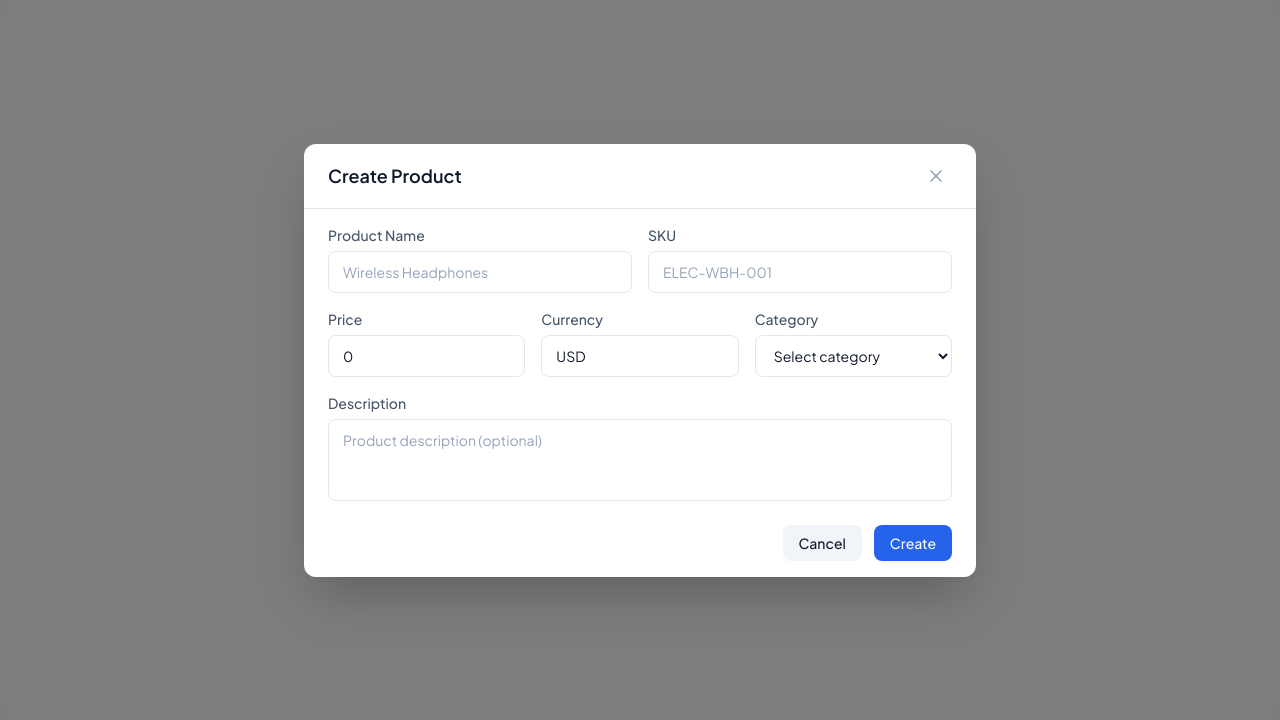
CreateProductModal › shows "Price must be positive" when price is zero
Type "Widget" into the field labelled "Product Name".
click(480, 272); type("Widget")  # box [328,250,632,292]
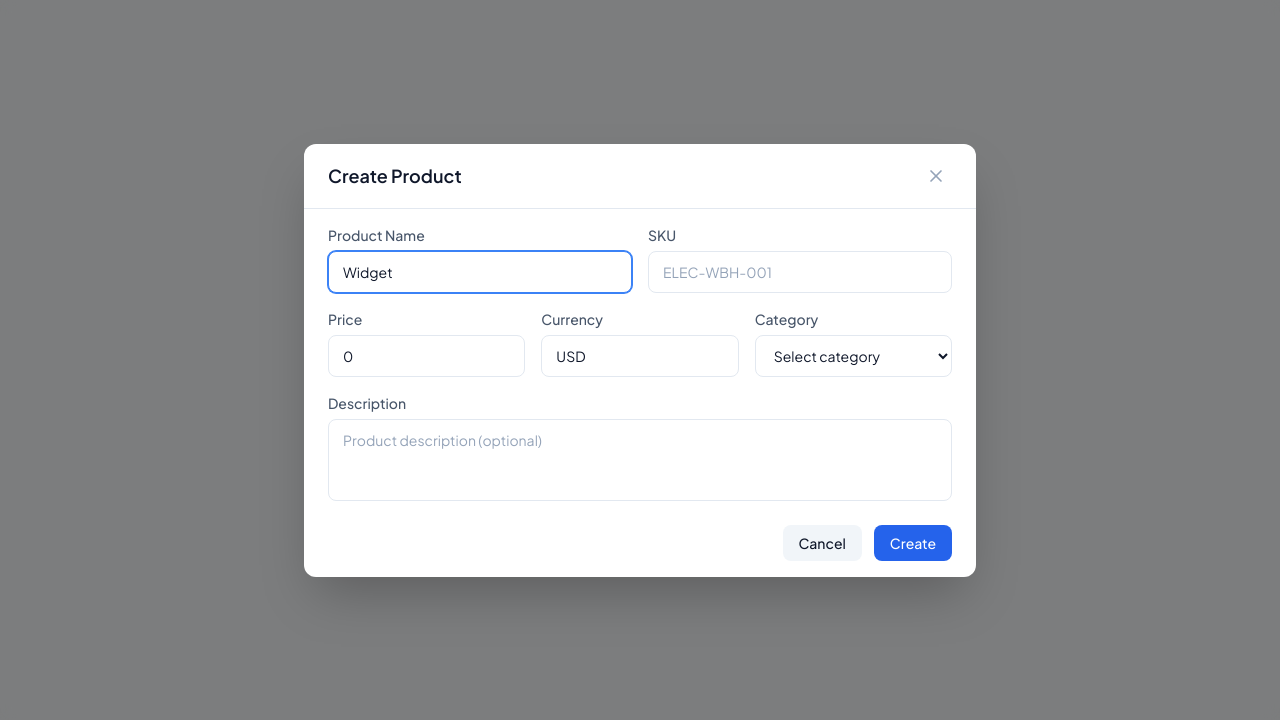
Type "WGT-001" into the field labelled "SKU".
click(800, 272); type("WGT-001")  # box [648,250,952,292]
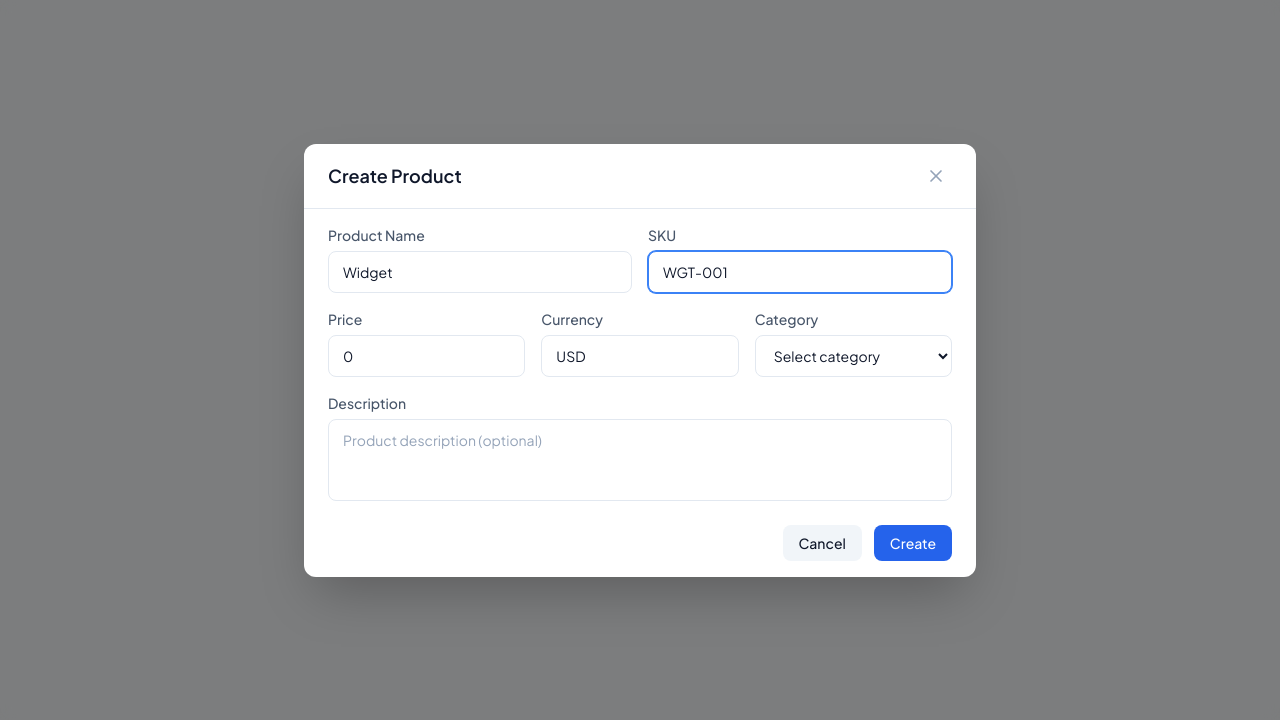
Note: Price field defaults to 0 — that should trigger the positive error
Click the button "Create".
click(913, 542)  # box [874,524,952,560]
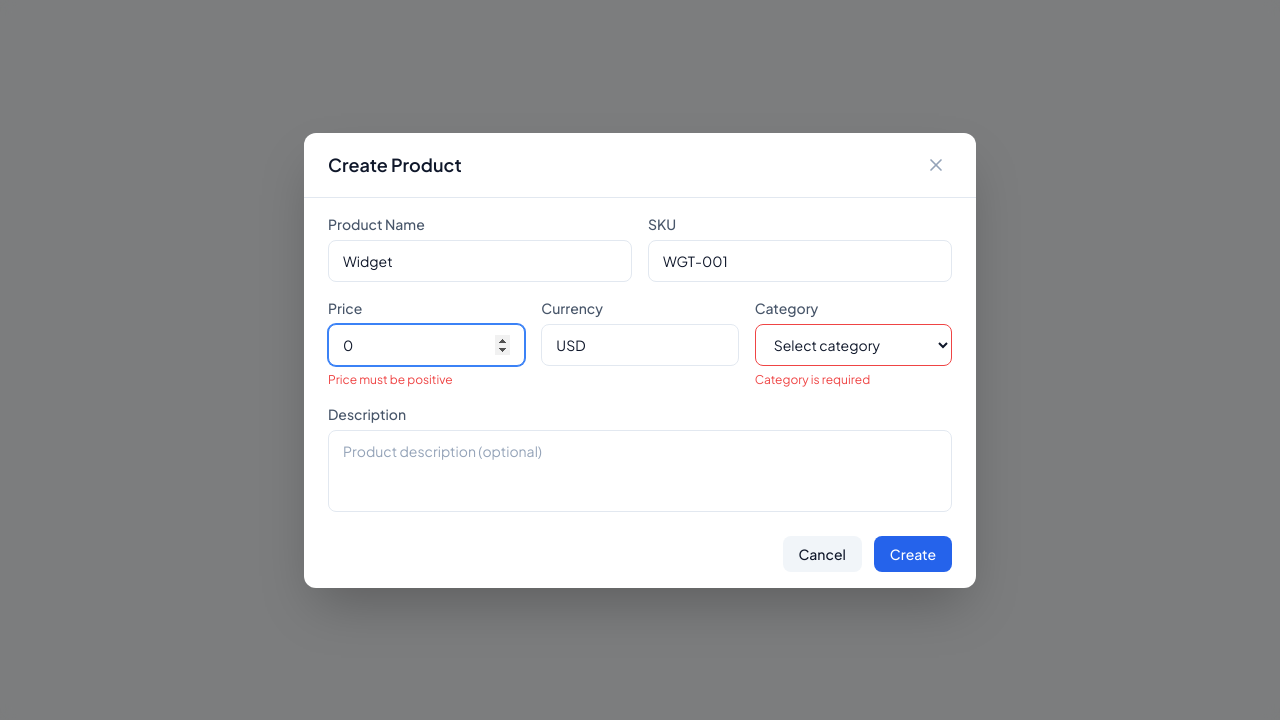
Check: the text "Price must be positive" is shown, box [328,372,453,386]
